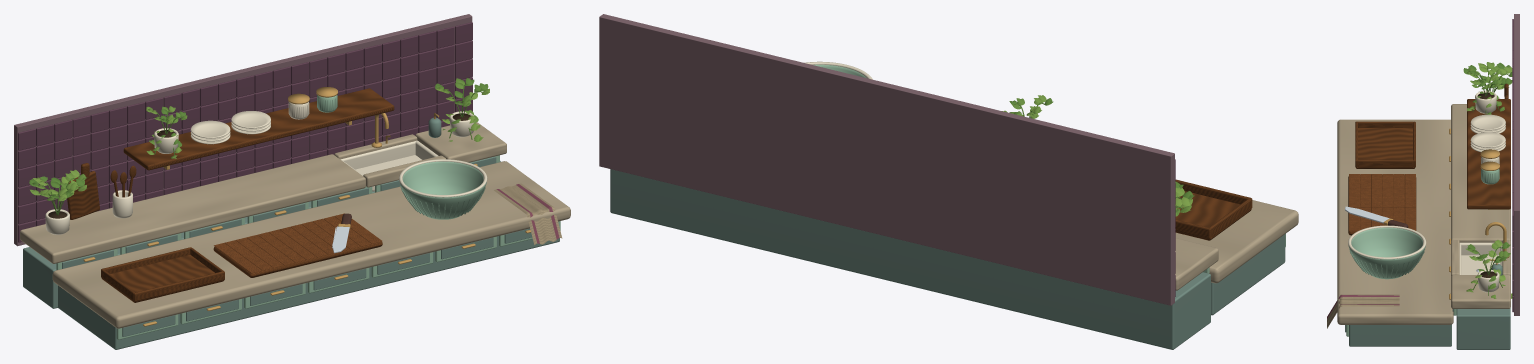
File: typeslasher-kitchen.glb
3 renders of one model, left to right at view 1: azimuth 30°, elevation 25°; view 2: azimuth 150°, elevation 25°; view 3: azimuth 270°, elevation 25°, orthographic. The views are drawn at different scales.
Parts seen in each view (by area): view 1: kitchen_environment geometry, service_bowl geometry, chef_knife geometry; view 2: kitchen_environment geometry; view 3: kitchen_environment geometry, service_bowl geometry, chef_knife geometry.
Part boxes in pixels (x1,y1,x2,y2): kitchen_environment geometry: (14, 14, 570, 349); service_bowl geometry: (399, 159, 487, 219); chef_knife geometry: (332, 213, 351, 253); kitchen_environment geometry: (599, 14, 1298, 349); kitchen_environment geometry: (1327, 14, 1519, 349); service_bowl geometry: (1348, 225, 1426, 279); chef_knife geometry: (1345, 206, 1408, 227).
Bounding box in the file's own units: 14 × 4.69 × 5.8.
21 materials, 6 textured.
